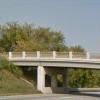Bridge: (8, 40, 100, 80)
